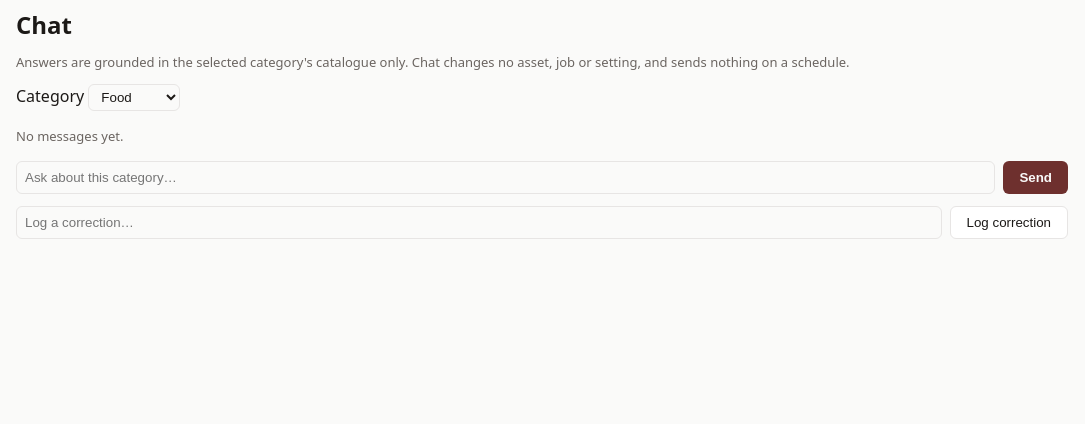
it: ChatPage › an empty catalogue with unclassified items names the cause and links to the Inbox
In the field named "Question": (506, 177) [16,161,995,194], type "What expires?"
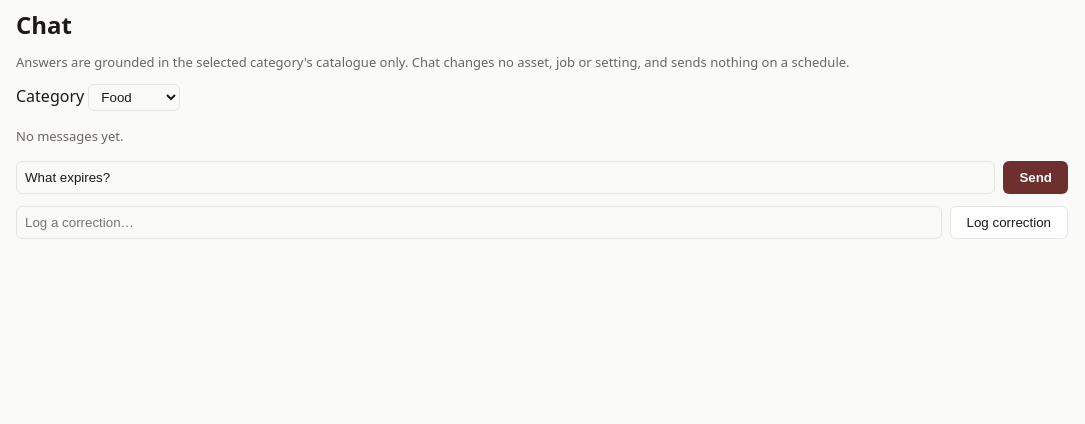
Click the button "Send": (1036, 177) [1003,161,1068,194]
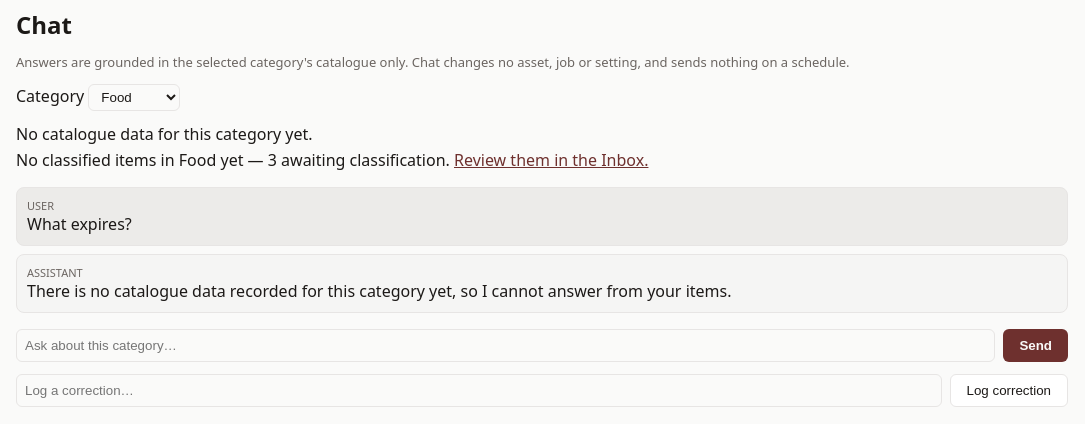
Now the message shows "No catalogue data for this category yet.", box [16,123,313,145]
Now the message shows "No classified items in Food yet — 3 awaiting classification.", box [16,123,648,171]
